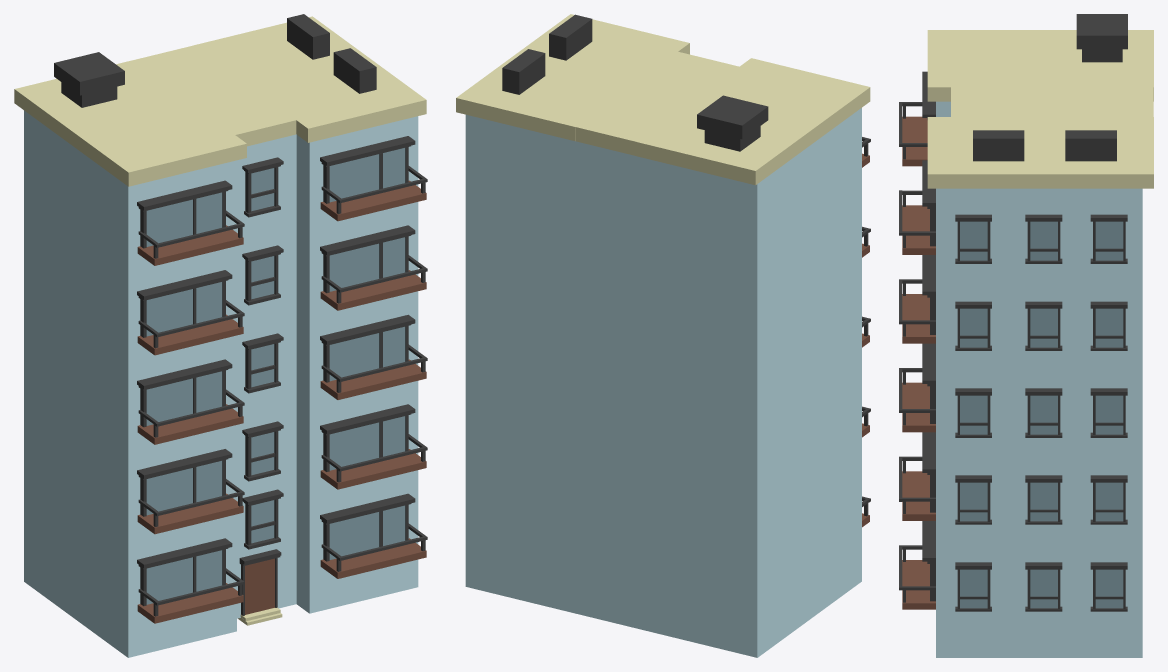
Rendered from building2_textured.fbx.
3 views of the same model, side by side, from view 1: azimuth 30°, elevation 25°; view 2: azimuth 150°, elevation 25°; view 3: azimuth 270°, elevation 25° (orthographic).
Visible parts, largest first — view 1: polySurface558; view 2: polySurface558; view 3: polySurface558.
Part boxes in pixels (x1,y1,x2,y2): polySurface558: (14, 14, 427, 657); polySurface558: (456, 14, 870, 657); polySurface558: (899, 14, 1153, 657).
Size of the model in its own units: 22.16 by 36.63 by 16.36.
